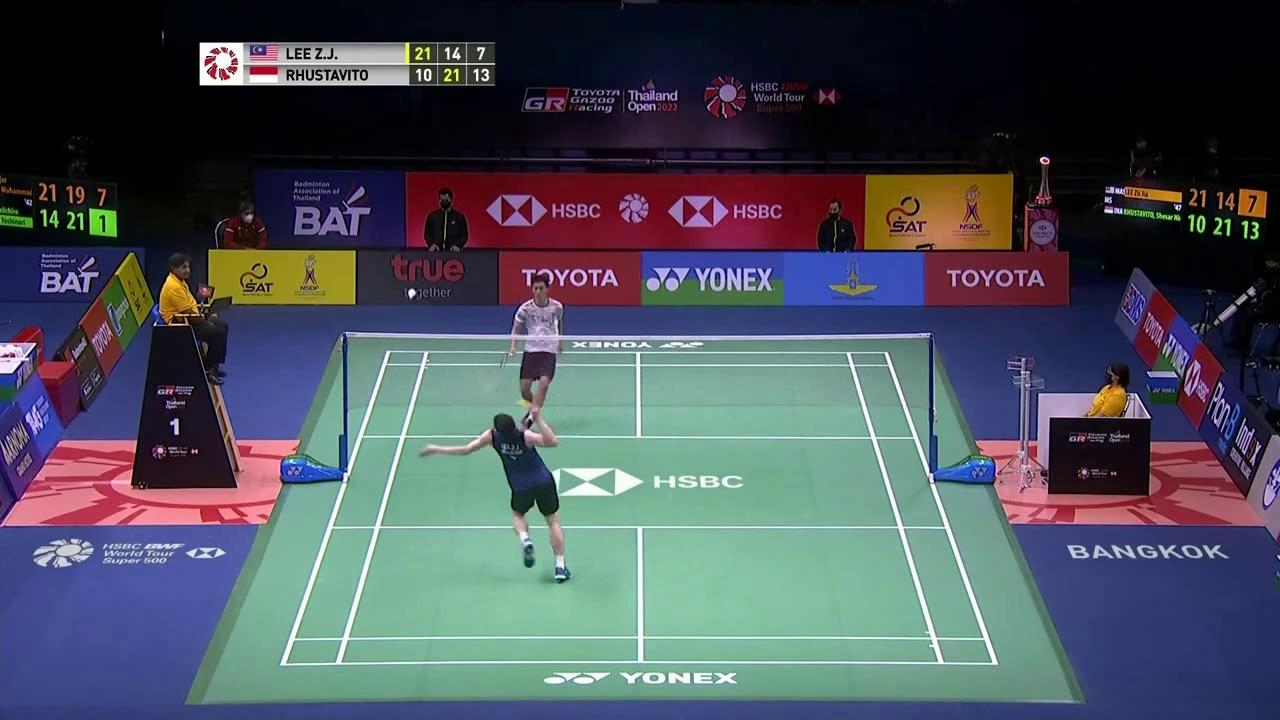racket: (478, 375, 536, 411), (498, 352, 514, 372)
shuttle: (406, 288, 416, 301)
